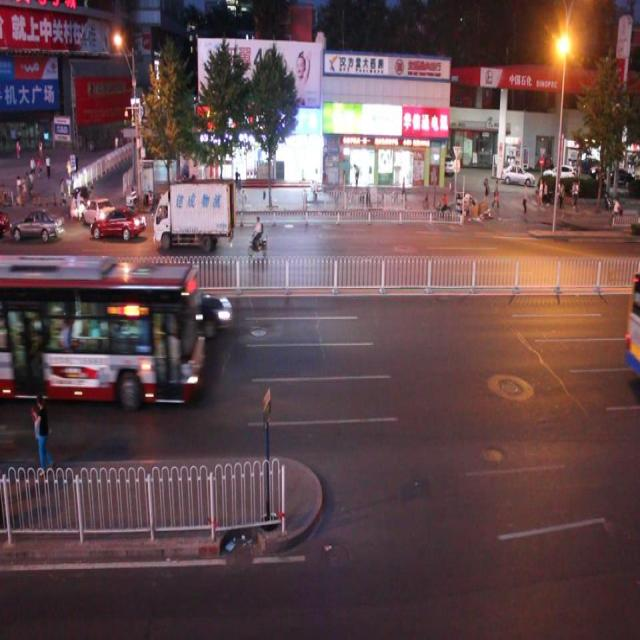bus: (154, 180, 235, 250)
car: (158, 282, 232, 337), (166, 185, 223, 232), (11, 202, 65, 241), (90, 206, 147, 242), (83, 194, 116, 229), (70, 182, 92, 217)
van: (1, 251, 201, 402)
